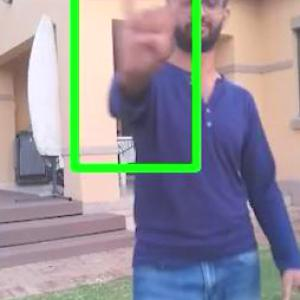takeoff-hand: (112, 0, 190, 102)
